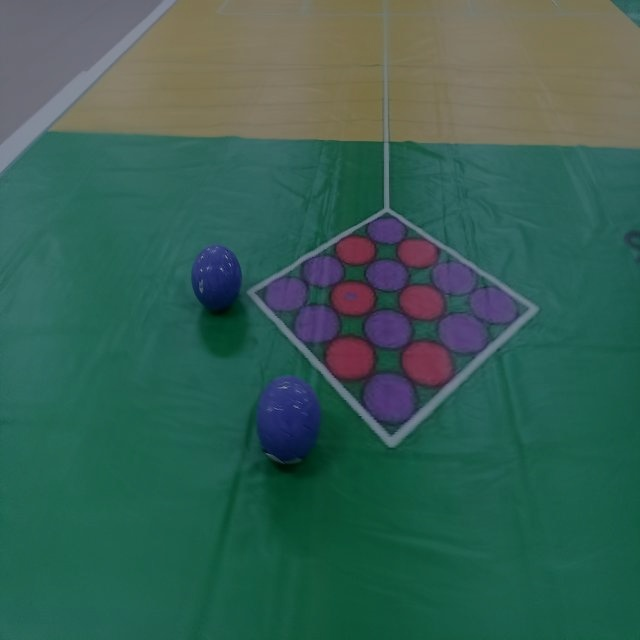blue_ball: (186, 235, 243, 319)
purple_ball: (246, 377, 326, 465)
